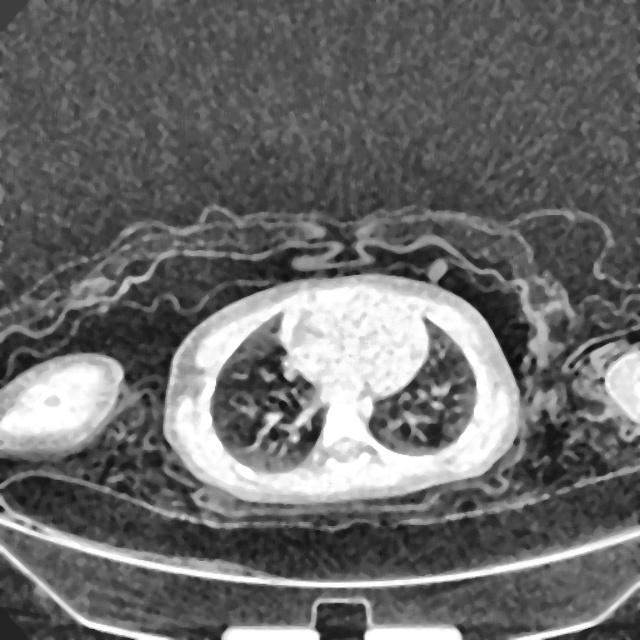covid: (161, 271, 521, 506)
